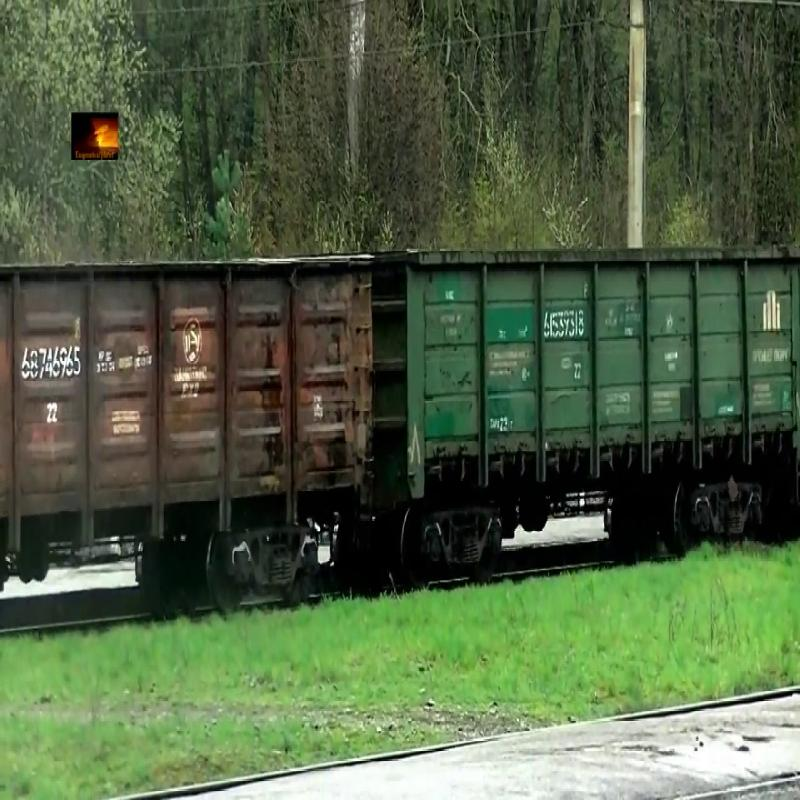train: (1, 253, 373, 552), (375, 246, 800, 507)
